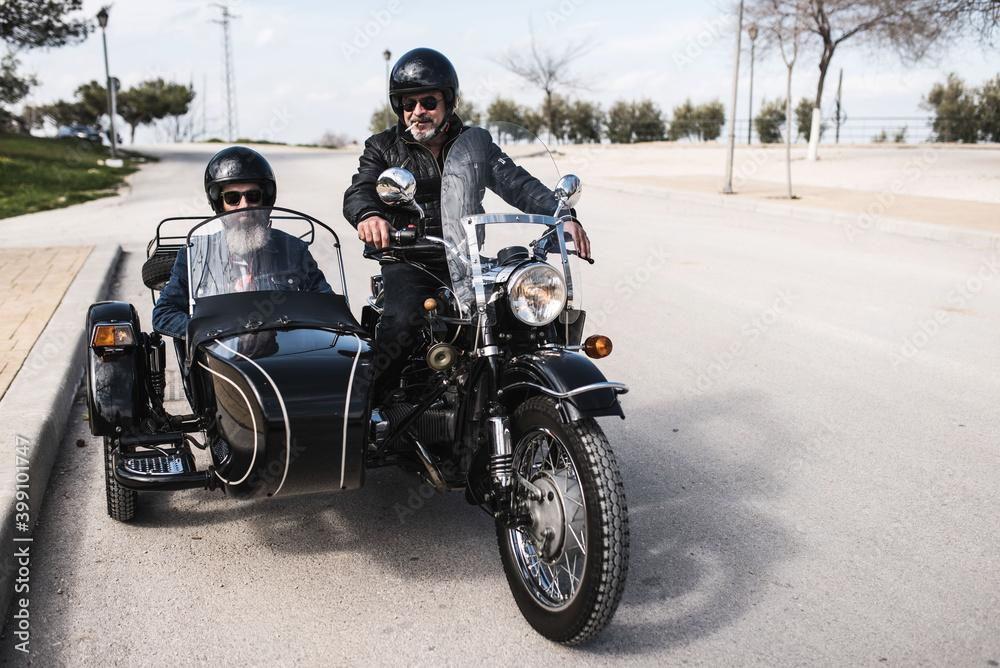helmet: (202, 145, 278, 257), (388, 46, 460, 143)
